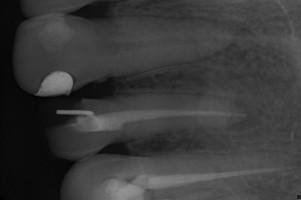Furcation Involvement: (222, 97, 261, 131)
